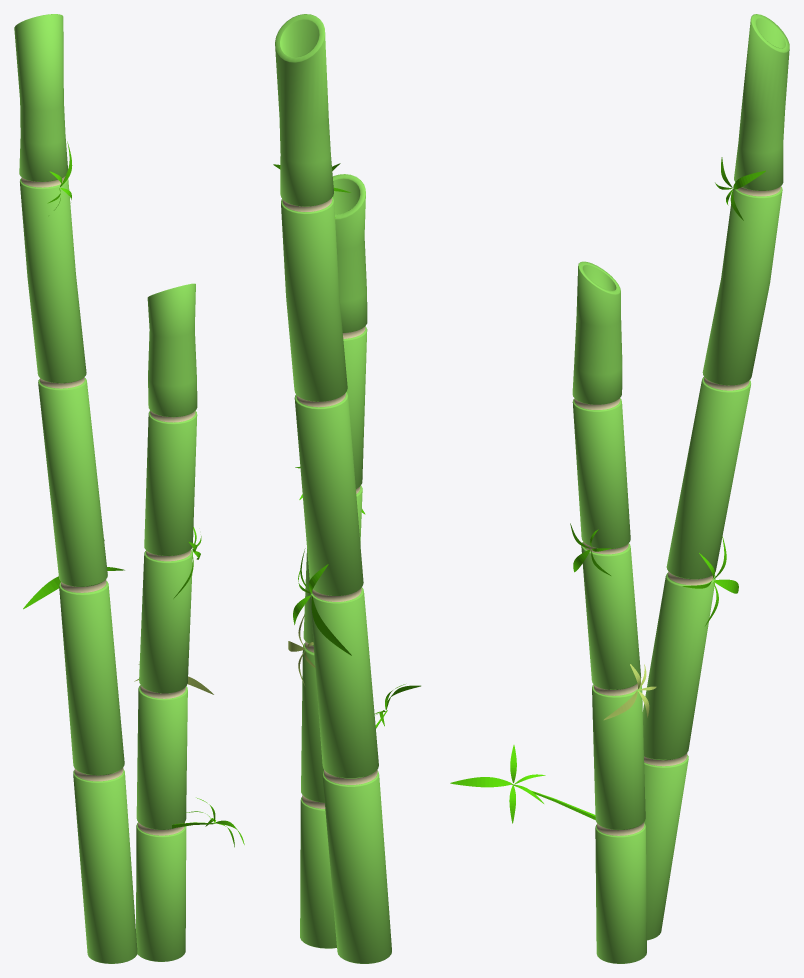
Rendered from Bamboo1.fbx.
3 views of the same model, side by side, from view 1: azimuth 30°, elevation 25°; view 2: azimuth 150°, elevation 25°; view 3: azimuth 270°, elevation 25° (orthographic). The views are drawn at different scales.
Visible parts, largest first — view 1: Cylinder.001, Cylinder; view 2: Cylinder.001, Cylinder, Plane.002; view 3: Cylinder.001, Cylinder, Cube.
Boxes of the visible parts, x1,y1,x2,y2 form: Cylinder.001: (14,14,137,963); Cylinder: (136,283,197,961); Cylinder.001: (275,14,391,963); Cylinder: (300,174,367,948); Plane.002: (293,548,351,655); Cylinder.001: (642,14,789,940); Cylinder: (572,261,646,963); Cube: (450,745,595,823).
Bounding box in the file's own units: 65.87 × 456 × 154.
